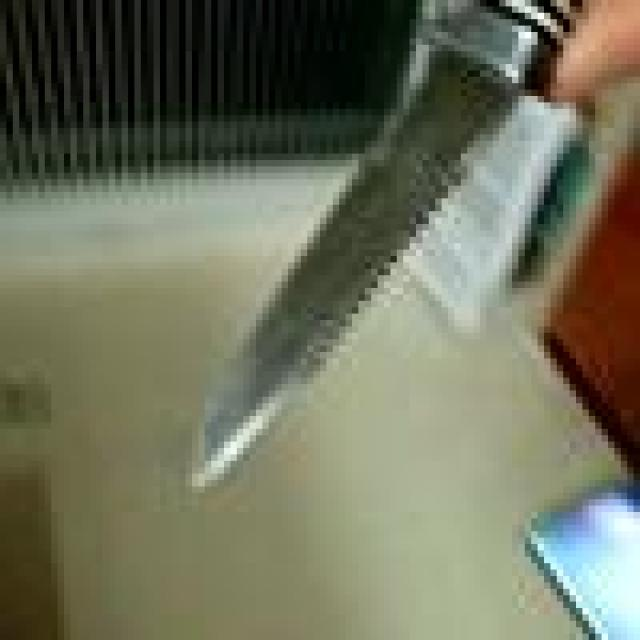Knife: (180, 0, 582, 493)
